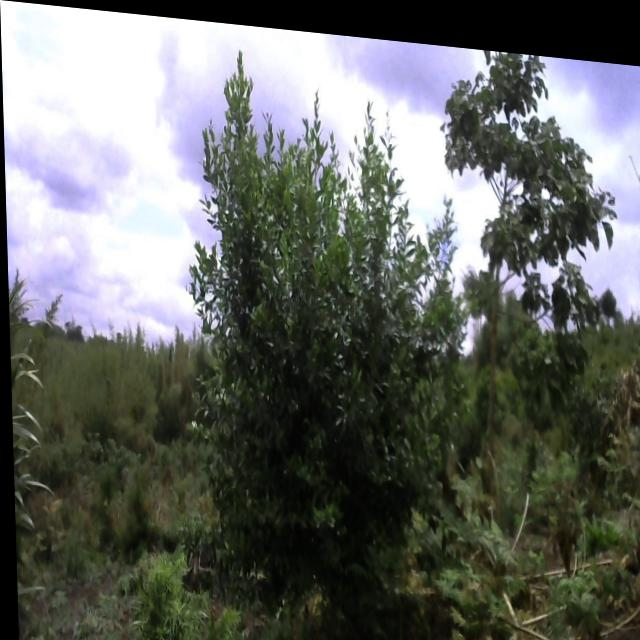Hass Avocado: (436, 36, 628, 505)
Salix alba: (146, 24, 468, 633)
